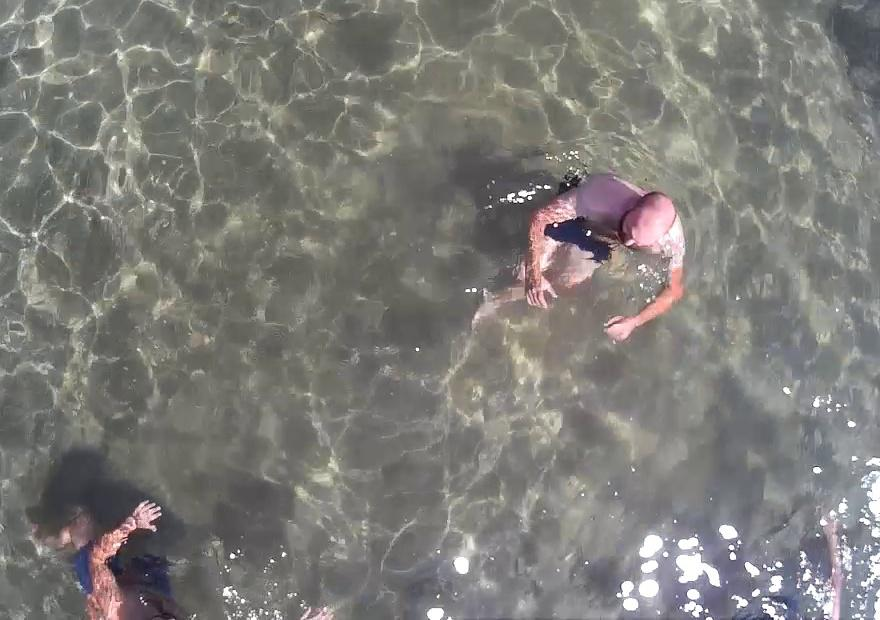human: (510, 148, 695, 345)
